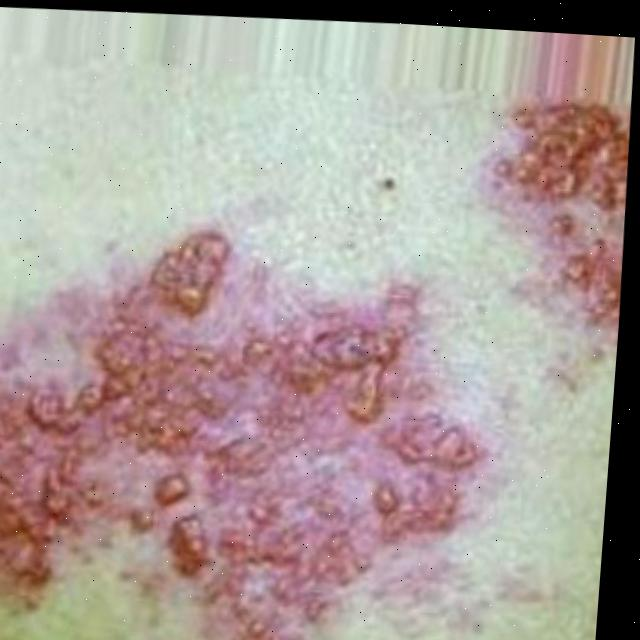Shingles: (0, 226, 482, 640), (481, 96, 635, 332)
